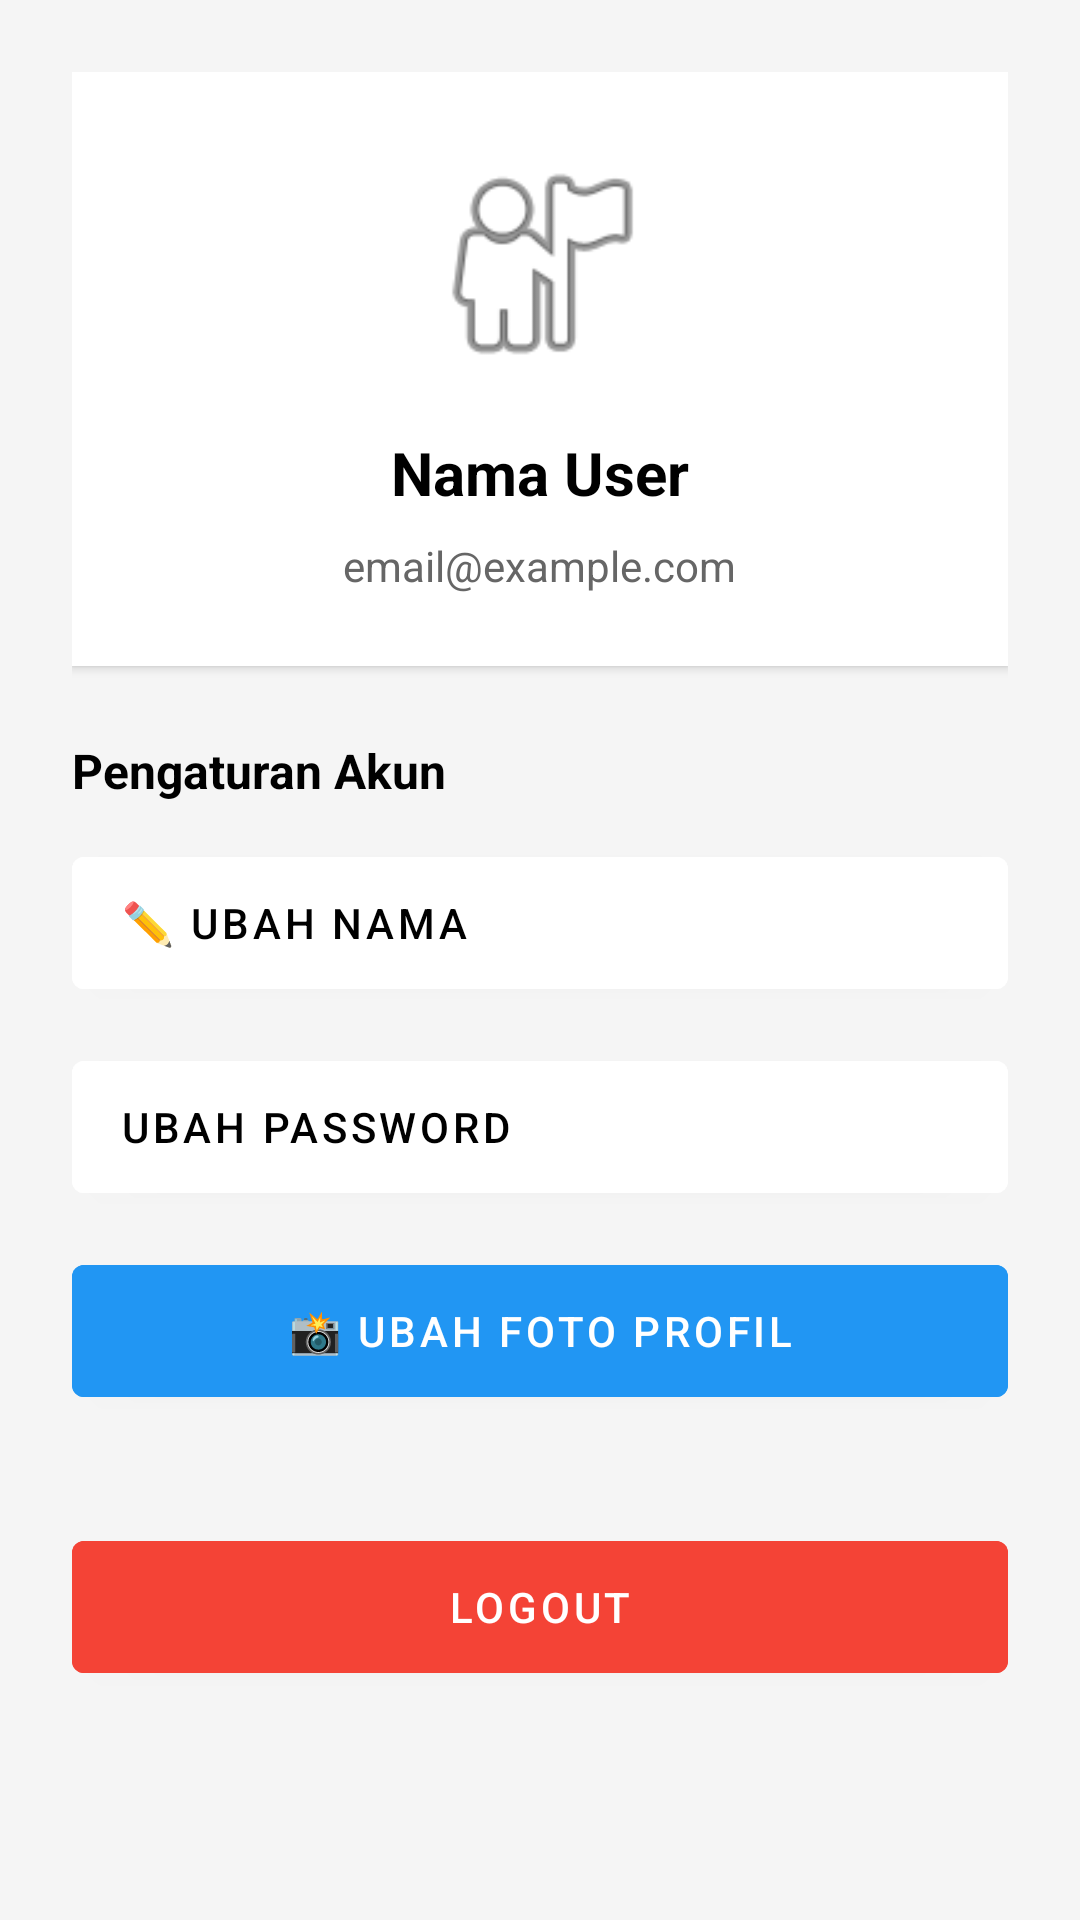

Locate icon controls on the screen. Image size 1080px x 1920px, boxes as [left=x1, top=y1, right=x2, bottom=y2].
Profile Icon: [left=452, top=174, right=633, bottom=354]
